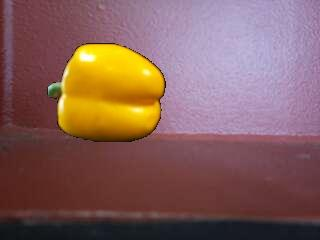Capsicum: (50, 42, 166, 143)
